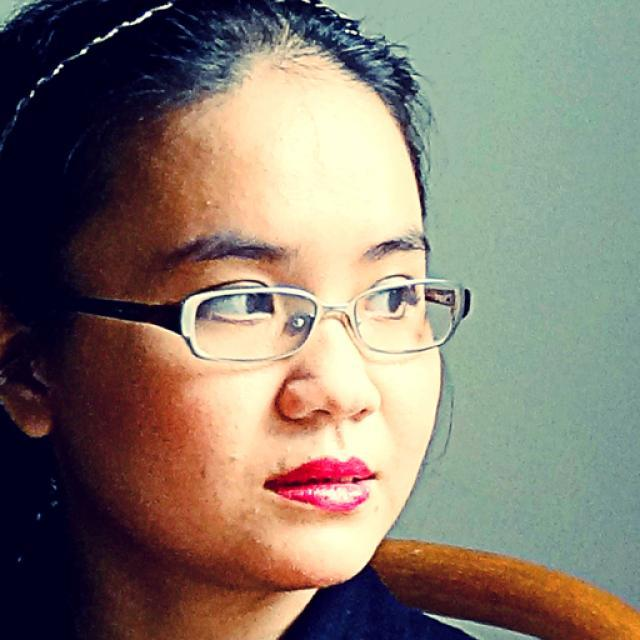neutral: (72, 40, 442, 582)
